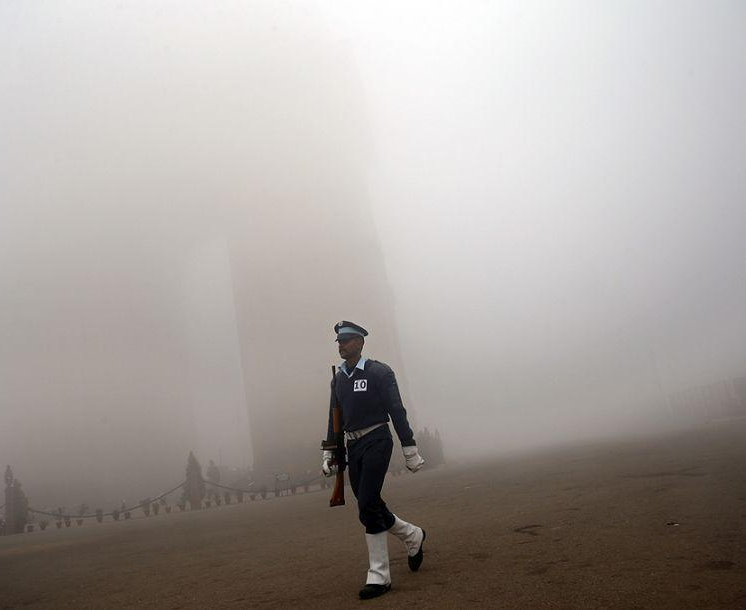person: (321, 319, 442, 600), (204, 458, 222, 505)
